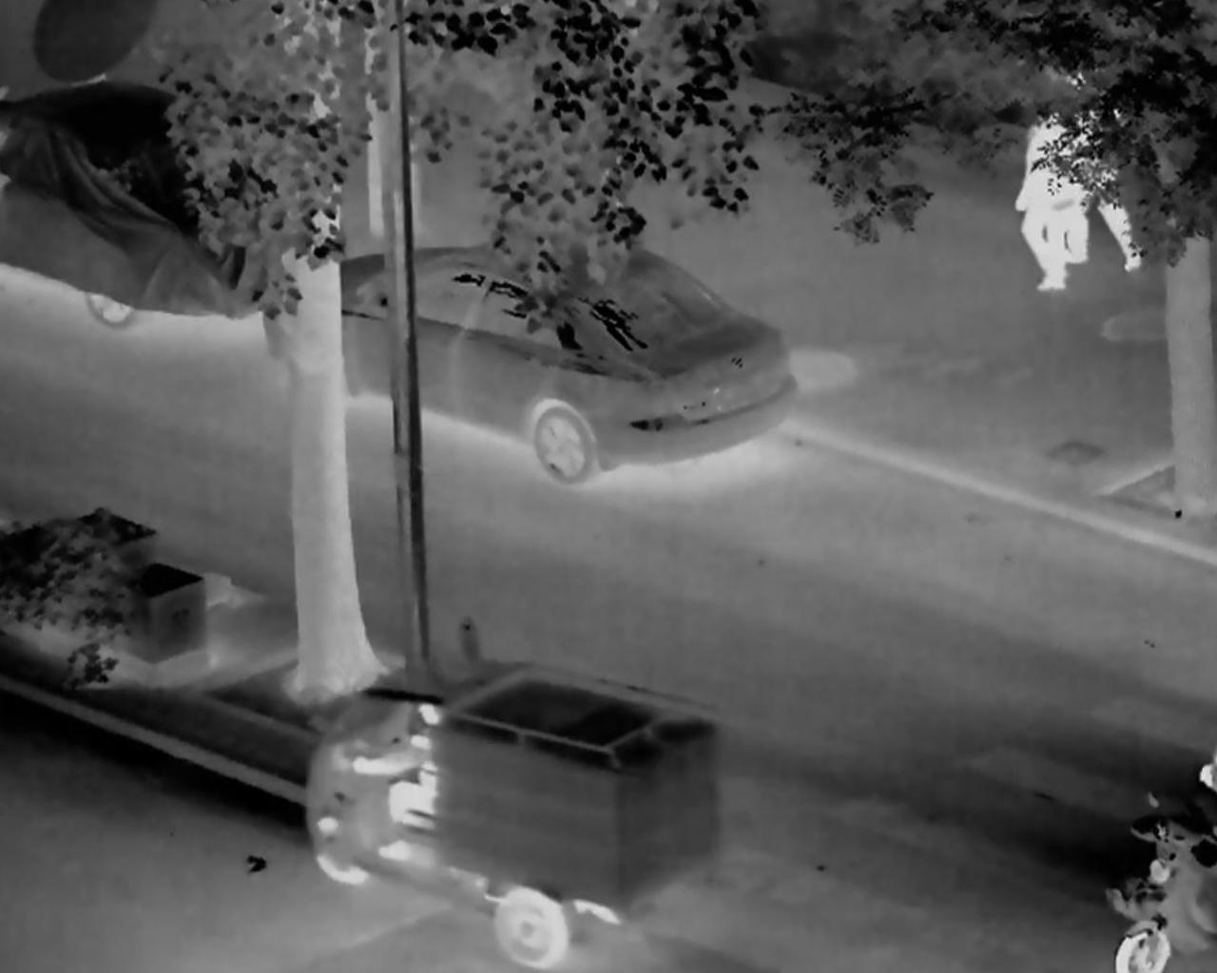person: (1062, 53, 1149, 273), (351, 697, 454, 864), (1006, 101, 1072, 292)
